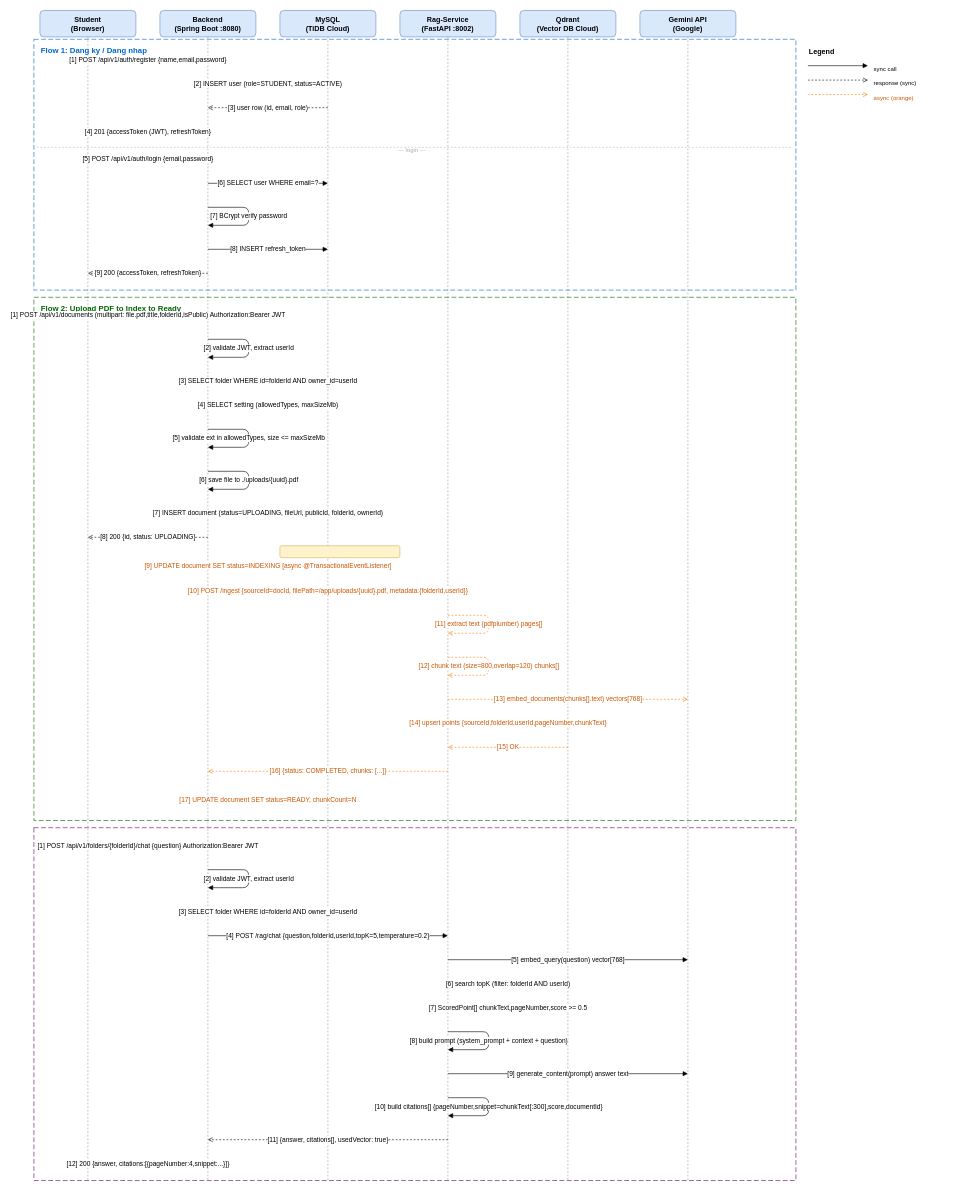
The diagram is 967 pixels wide and 1192 high, and some of its shapes have lost their labels. The shapes that lost their labels are listed below. From the top down, each one's centre as x and y in pixels, then its label:
At point 339,551: "[async sau khi commit DB]".
At point 414,1003: "Flow 3: Chat voi Folder (RAG)".
